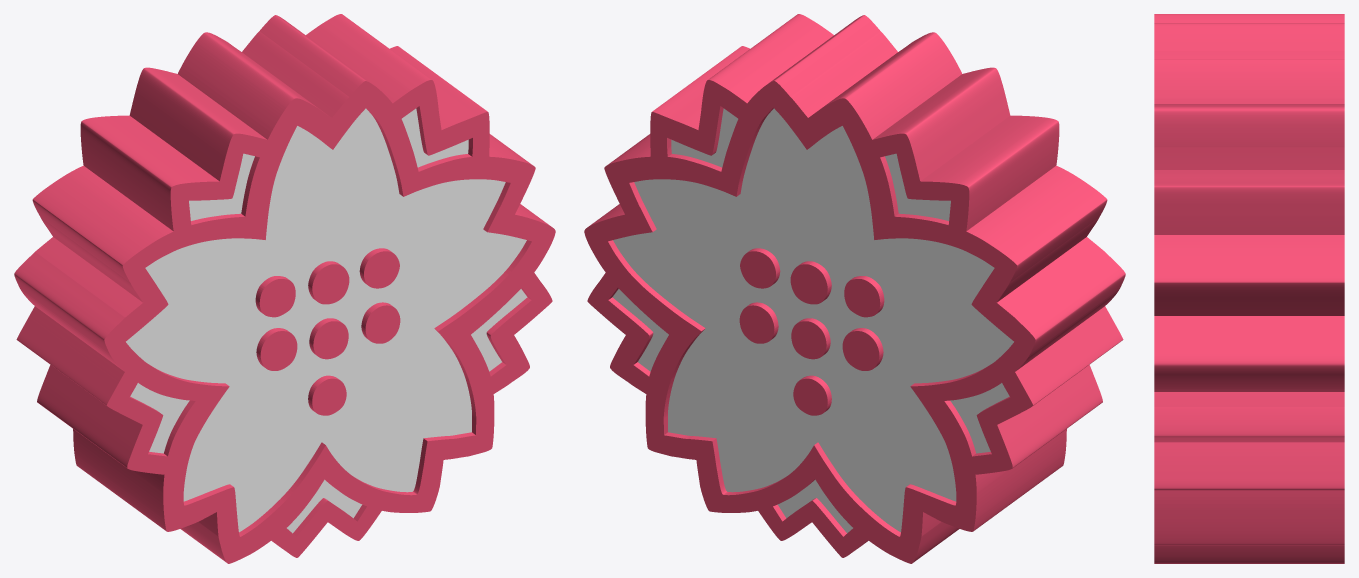
The picture shows the model from 3 angles, left to right: view 1: azimuth 30°, elevation 25°; view 2: azimuth 150°, elevation 25°; view 3: azimuth 270°, elevation 25°; orthographic projection. The views are drawn at different scales.
Parts seen in each view (by area): view 1: U+1F4AE_layer00_obj00, U+1F4AE_layer01_obj08, U+1F4AE_layer01_obj10, U+1F4AE_layer01_obj02, U+1F4AE_layer01_obj00, U+1F4AE_layer01_obj01, U+1F4AE_layer01_obj09, U+1F4AE_layer01_obj11, U+1F4AE_layer01_obj06, U+1F4AE_layer01_obj03, U+1F4AE_layer01_obj05, U+1F4AE_layer01_obj04 (+2 smaller); view 2: U+1F4AE_layer00_obj00, U+1F4AE_layer01_obj08, U+1F4AE_layer01_obj10, U+1F4AE_layer01_obj02, U+1F4AE_layer01_obj00, U+1F4AE_layer01_obj01, U+1F4AE_layer01_obj09, U+1F4AE_layer01_obj11, U+1F4AE_layer01_obj06, U+1F4AE_layer01_obj03, U+1F4AE_layer01_obj05, U+1F4AE_layer01_obj04 (+2 smaller); view 3: U+1F4AE_layer01_obj08, U+1F4AE_layer01_obj00, U+1F4AE_layer01_obj01, U+1F4AE_layer01_obj10.
Boxes of the visible parts, bbox=[...] form: U+1F4AE_layer00_obj00: bbox=[126, 108, 527, 533]; U+1F4AE_layer01_obj08: bbox=[14, 15, 555, 563]; U+1F4AE_layer01_obj10: bbox=[80, 67, 277, 237]; U+1F4AE_layer01_obj02: bbox=[16, 306, 174, 474]; U+1F4AE_layer01_obj00: bbox=[306, 14, 489, 170]; U+1F4AE_layer01_obj01: bbox=[484, 269, 552, 397]; U+1F4AE_layer01_obj09: bbox=[267, 496, 388, 557]; U+1F4AE_layer01_obj11: bbox=[308, 261, 349, 304]; U+1F4AE_layer01_obj06: bbox=[256, 328, 297, 370]; U+1F4AE_layer01_obj03: bbox=[255, 276, 295, 317]; U+1F4AE_layer01_obj05: bbox=[309, 318, 348, 359]; U+1F4AE_layer01_obj04: bbox=[361, 302, 400, 343]; U+1F4AE_layer00_obj00: bbox=[612, 108, 1013, 533]; U+1F4AE_layer01_obj08: bbox=[584, 15, 1125, 563]; U+1F4AE_layer01_obj10: bbox=[862, 67, 1059, 237]; U+1F4AE_layer01_obj02: bbox=[966, 306, 1123, 474]; U+1F4AE_layer01_obj00: bbox=[650, 14, 833, 170]; U+1F4AE_layer01_obj01: bbox=[587, 269, 655, 397]; U+1F4AE_layer01_obj09: bbox=[752, 496, 872, 557]; U+1F4AE_layer01_obj11: bbox=[790, 261, 831, 304]; U+1F4AE_layer01_obj06: bbox=[842, 328, 883, 370]; U+1F4AE_layer01_obj03: bbox=[844, 276, 884, 317]; U+1F4AE_layer01_obj05: bbox=[791, 318, 830, 359]; U+1F4AE_layer01_obj04: bbox=[739, 302, 778, 343]; U+1F4AE_layer01_obj08: bbox=[1154, 23, 1344, 563]; U+1F4AE_layer01_obj00: bbox=[1154, 104, 1344, 234]; U+1F4AE_layer01_obj01: bbox=[1154, 392, 1344, 490]; U+1F4AE_layer01_obj10: bbox=[1154, 14, 1344, 22].
Bounding box in the file's own units: 0.3181 × 0.3101 × 0.11.
